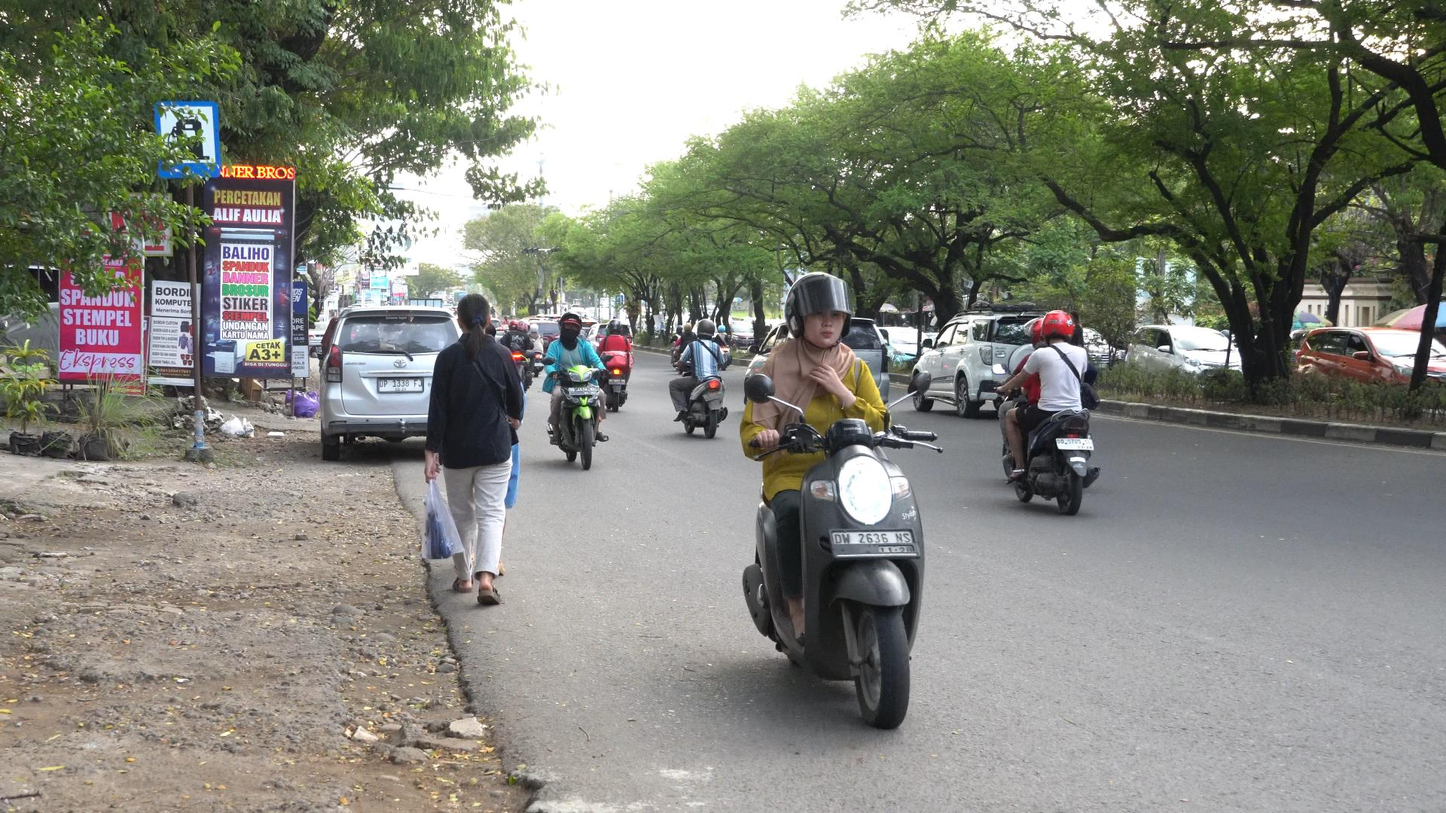number-plate: (826, 527, 919, 560), (567, 383, 600, 398)
